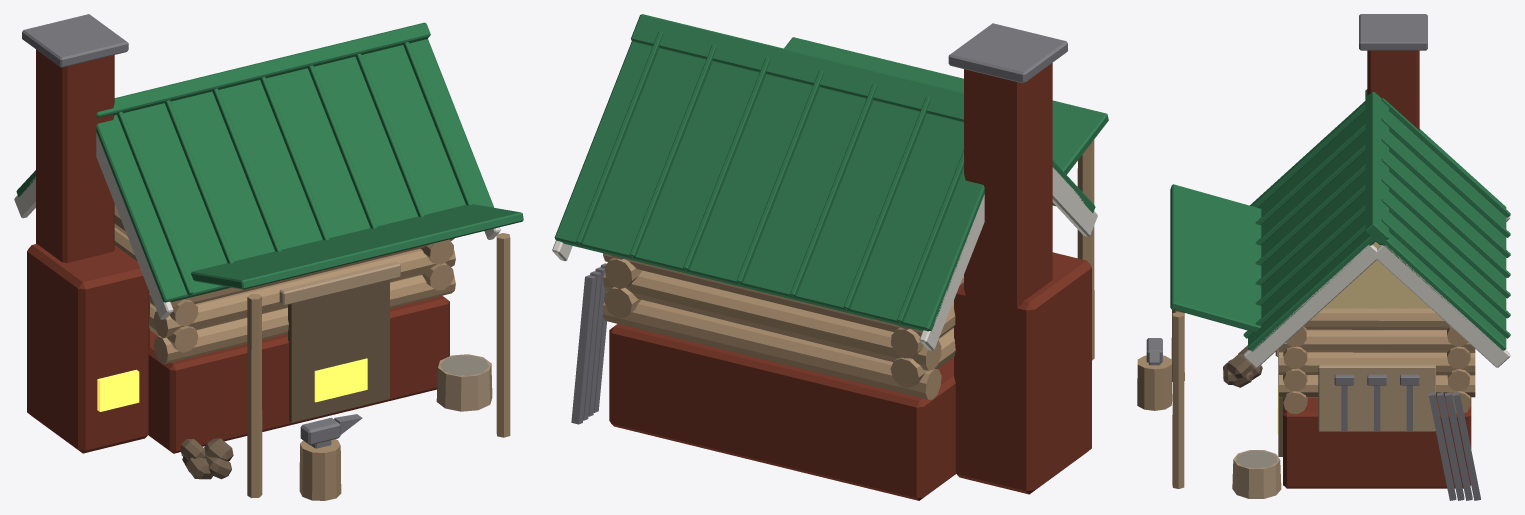
Rendered from bld_kuznica_e2.glb.
3 views of the same model, side by side, from view 1: azimuth 30°, elevation 25°; view 2: azimuth 150°, elevation 25°; view 3: azimuth 270°, elevation 25° (orthographic). The views are drawn at different scales.
Visible parts, largest first — view 1: kuznica; view 2: kuznica; view 3: kuznica.
Boxes of the visible parts, bbox=[...] form: kuznica: bbox=[14, 14, 523, 500]; kuznica: bbox=[552, 14, 1108, 500]; kuznica: bbox=[1137, 14, 1510, 500].
Size of the model in its own units: 1.15 by 1.13 by 1.14.
